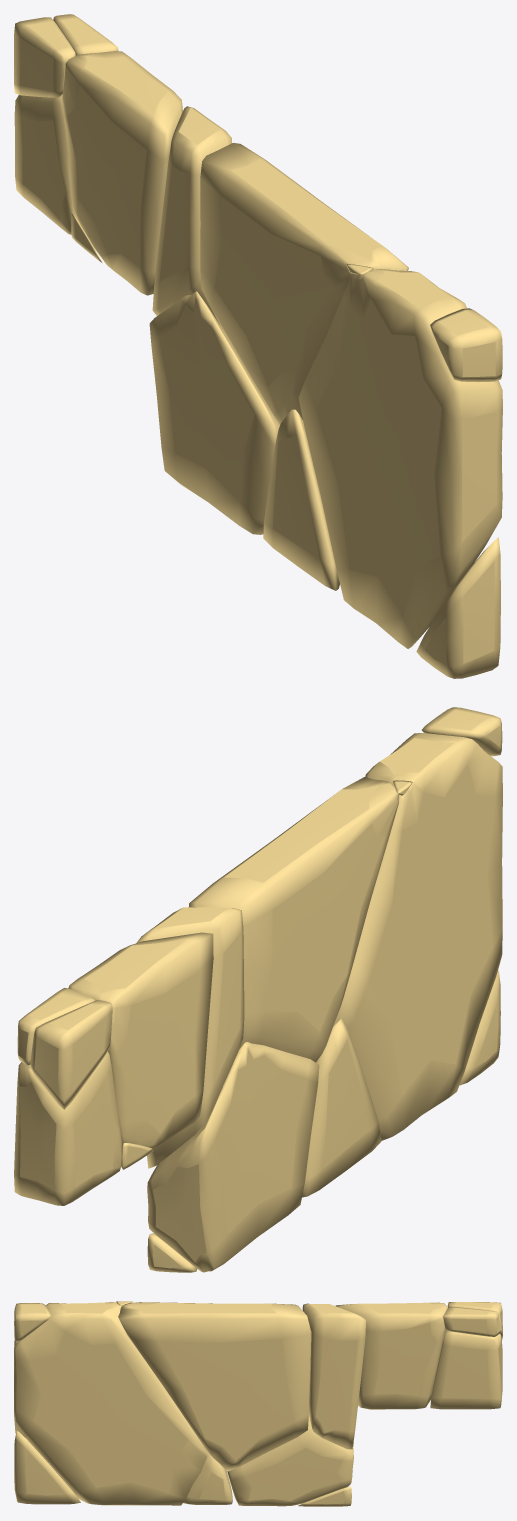
Rendered from Mesh_StoneWall_Side_2.fbx.
3 views of the same model, one above another, from view 1: azimuth 30°, elevation 25°; view 2: azimuth 150°, elevation 25°; view 3: azimuth 270°, elevation 25° (orthographic). The views are drawn at different scales.
Visible parts, largest first — view 1: Muro_piedras_imodular:Mesh; view 2: Muro_piedras_imodular:Mesh; view 3: Muro_piedras_imodular:Mesh.
Boxes of the visible parts, x1,y1,x2,y2 form: Muro_piedras_imodular:Mesh: (14,14,502,678); Muro_piedras_imodular:Mesh: (14,707,502,1272); Muro_piedras_imodular:Mesh: (14,1301,502,1506).
Bounding box in the file's own units: 0.748 × 4.4 × 10.13.
